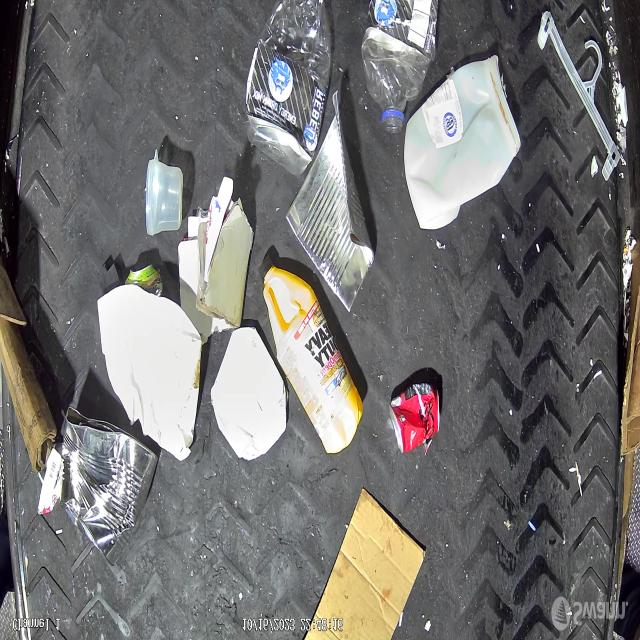can: (284, 85, 376, 314), (60, 405, 158, 562), (391, 381, 442, 456), (128, 265, 164, 295)
milk_jug: (404, 55, 522, 228)
non_white_jug: (256, 259, 361, 458)
plastic_bottle: (246, 0, 332, 178), (362, 0, 438, 134)
